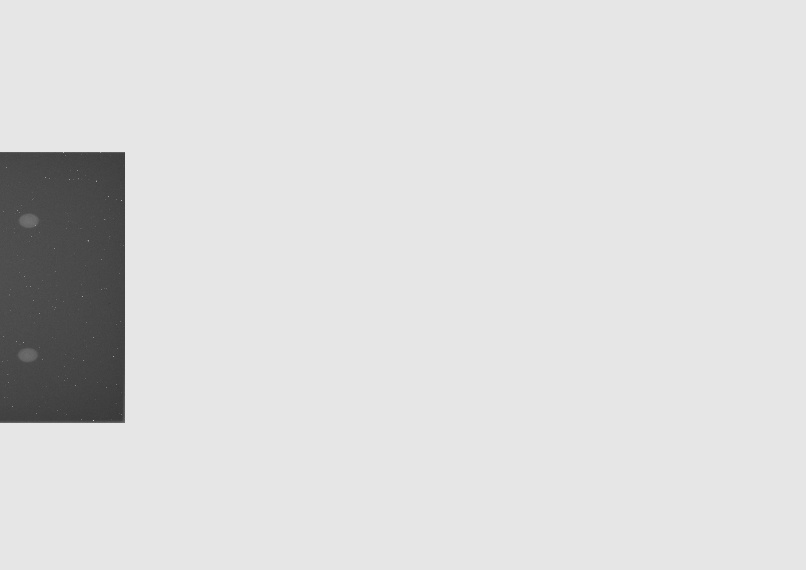bubble: (17, 213, 39, 228), (16, 347, 38, 362)
